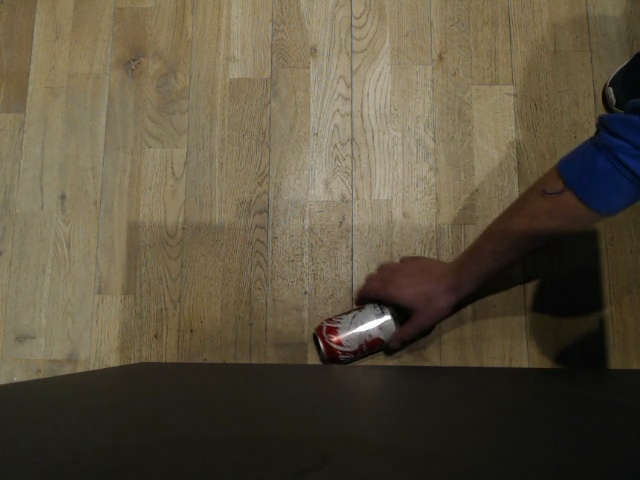cola: (312, 294, 402, 365)
